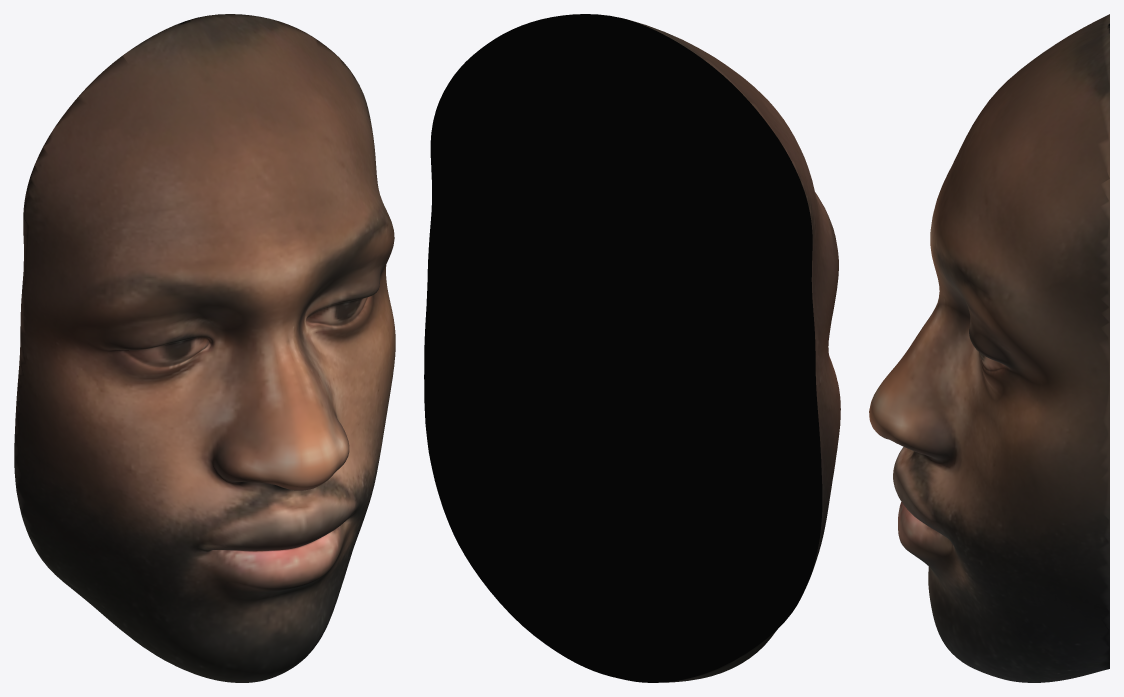
File: faceDeriqTexturepaint.glb
3 renders of one model, left to right at view 1: azimuth 30°, elevation 25°; view 2: azimuth 150°, elevation 25°; view 3: azimuth 270°, elevation 25°, orthographic. The views are drawn at different scales.
Parts seen in each view (by area): view 1: FaceBuilderHead; view 2: FaceBuilderHead; view 3: FaceBuilderHead.
Part boxes in pixels (<box>): FaceBuilderHead: <box>14,14,395,682</box>; FaceBuilderHead: <box>424,14,840,682</box>; FaceBuilderHead: <box>869,14,1109,682</box>.
Size of the model in its own units: 1.21 by 1.99 by 0.6798.
1 material, 1 textured.
